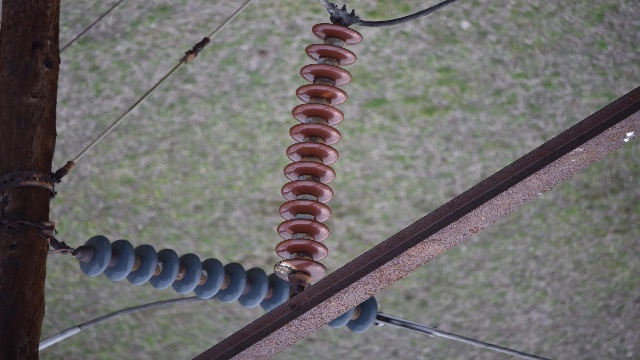insulator_unspecified: (79, 231, 375, 331), (273, 25, 363, 283)
pollution_flashover_local: (273, 261, 298, 280), (322, 88, 335, 101)
